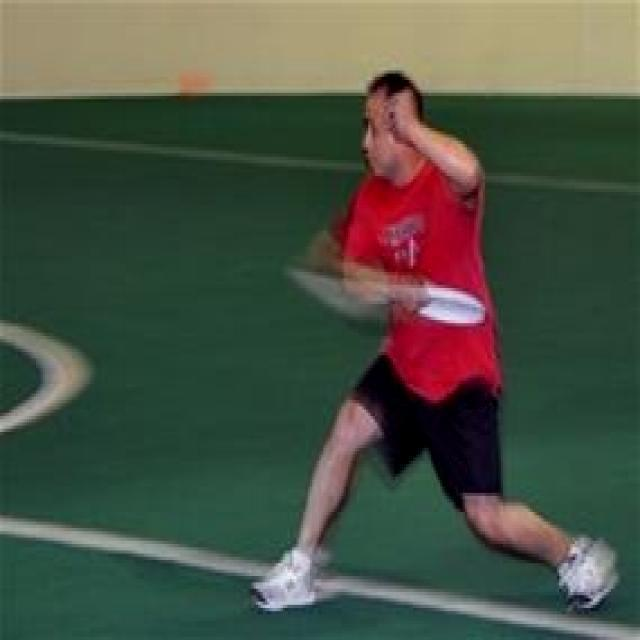no_vest: (327, 154, 514, 393)
